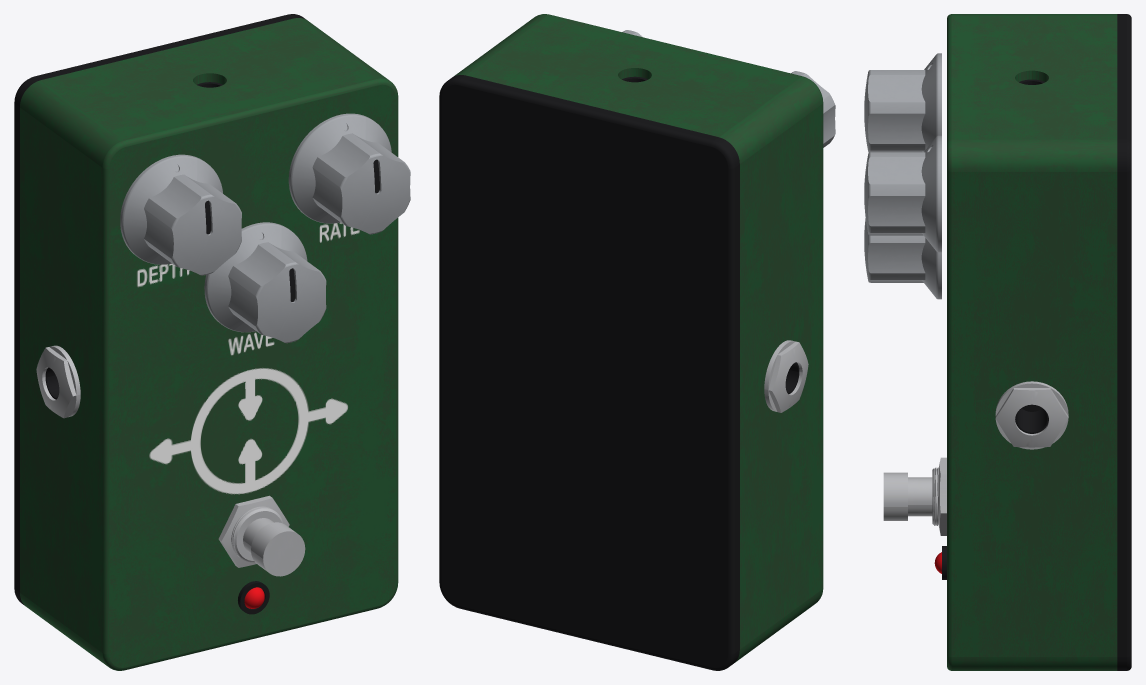
File: Pedal4.glb
The picture shows the model from 3 angles, left to right: view 1: azimuth 30°, elevation 25°; view 2: azimuth 150°, elevation 25°; view 3: azimuth 270°, elevation 25°; orthographic projection.
Parts seen in each view (by area): view 1: Shape_IndexedFaceSet.047, Shape_IndexedFaceSet.018, Shape_IndexedFaceSet.026, Shape_IndexedFaceSet.056, Shape_IndexedFaceSet.052, Shape_IndexedFaceSet.252, Shape_IndexedFaceSet.291, Shape_IndexedFaceSet.005, Shape_IndexedFaceSet.330, Shape_IndexedFaceSet.340, Shape_IndexedFaceSet.262, Shape_IndexedFaceSet.301 (+22 smaller); view 2: Shape_IndexedFaceSet, Shape_IndexedFaceSet.018, Shape_IndexedFaceSet.026, Shape_IndexedFaceSet.052, Shape_IndexedFaceSet.012, Shape_IndexedFaceSet.005, Shape_IndexedFaceSet.014, Shape_IndexedFaceSet.016, Shape_IndexedFaceSet.007, Shape_IndexedFaceSet.056, Shape_IndexedFaceSet.050, Shape_IndexedFaceSet.010 (+2 smaller); view 3: Shape_IndexedFaceSet.019, Shape_IndexedFaceSet.026, Shape_IndexedFaceSet.051, Shape_IndexedFaceSet.001, Shape_IndexedFaceSet.016, Shape_IndexedFaceSet.060, Shape_IndexedFaceSet.048, Shape_IndexedFaceSet.352, Shape_IndexedFaceSet.313, Shape_IndexedFaceSet.274, Shape_IndexedFaceSet.273, Shape_IndexedFaceSet.312 (+15 smaller).
Boxes of the visible parts, box(x1,y1,x2,y2) form: Shape_IndexedFaceSet.047: box(109, 84, 395, 667); Shape_IndexedFaceSet.018: box(20, 108, 102, 652); Shape_IndexedFaceSet.026: box(41, 18, 375, 140); Shape_IndexedFaceSet.056: box(102, 168, 109, 654); Shape_IndexedFaceSet.052: box(20, 80, 123, 167); Shape_IndexedFaceSet.252: box(123, 157, 197, 262); Shape_IndexedFaceSet.291: box(292, 116, 365, 221); Shape_IndexedFaceSet.005: box(15, 104, 19, 592); Shape_IndexedFaceSet.330: box(208, 225, 281, 329); Shape_IndexedFaceSet.340: box(257, 264, 307, 338); Shape_IndexedFaceSet.262: box(173, 197, 223, 270); Shape_IndexedFaceSet.301: box(341, 155, 392, 229); Shape_IndexedFaceSet: box(441, 84, 728, 667); Shape_IndexedFaceSet.018: box(740, 104, 822, 649); Shape_IndexedFaceSet.026: box(466, 15, 800, 136); Shape_IndexedFaceSet.052: box(719, 76, 822, 163); Shape_IndexedFaceSet.012: box(728, 168, 734, 654); Shape_IndexedFaceSet.005: box(735, 164, 739, 652); Shape_IndexedFaceSet.014: box(458, 79, 713, 146); Shape_IndexedFaceSet.016: box(439, 97, 441, 583); Shape_IndexedFaceSet.007: box(461, 75, 718, 140); Shape_IndexedFaceSet.056: box(822, 103, 823, 588); Shape_IndexedFaceSet.050: box(735, 589, 822, 662); Shape_IndexedFaceSet.010: box(458, 606, 711, 669); Shape_IndexedFaceSet.019: box(951, 172, 1117, 656); Shape_IndexedFaceSet.026: box(951, 16, 1117, 139); Shape_IndexedFaceSet.051: box(951, 139, 1117, 171); Shape_IndexedFaceSet.001: box(1117, 172, 1126, 656); Shape_IndexedFaceSet.016: box(1127, 170, 1131, 656); Shape_IndexedFaceSet.060: box(947, 170, 951, 656); Shape_IndexedFaceSet.048: box(951, 657, 1117, 670); Shape_IndexedFaceSet.352: box(868, 243, 925, 273); Shape_IndexedFaceSet.313: box(868, 196, 925, 226); Shape_IndexedFaceSet.274: box(868, 113, 925, 143); Shape_IndexedFaceSet.273: box(868, 75, 925, 102); Shape_IndexedFaceSet.312: box(868, 157, 925, 184).
Bounding box in the file's own units: 2.27 × 3.6 × 1.65.
Materials: 6 (5 with a texture image).
